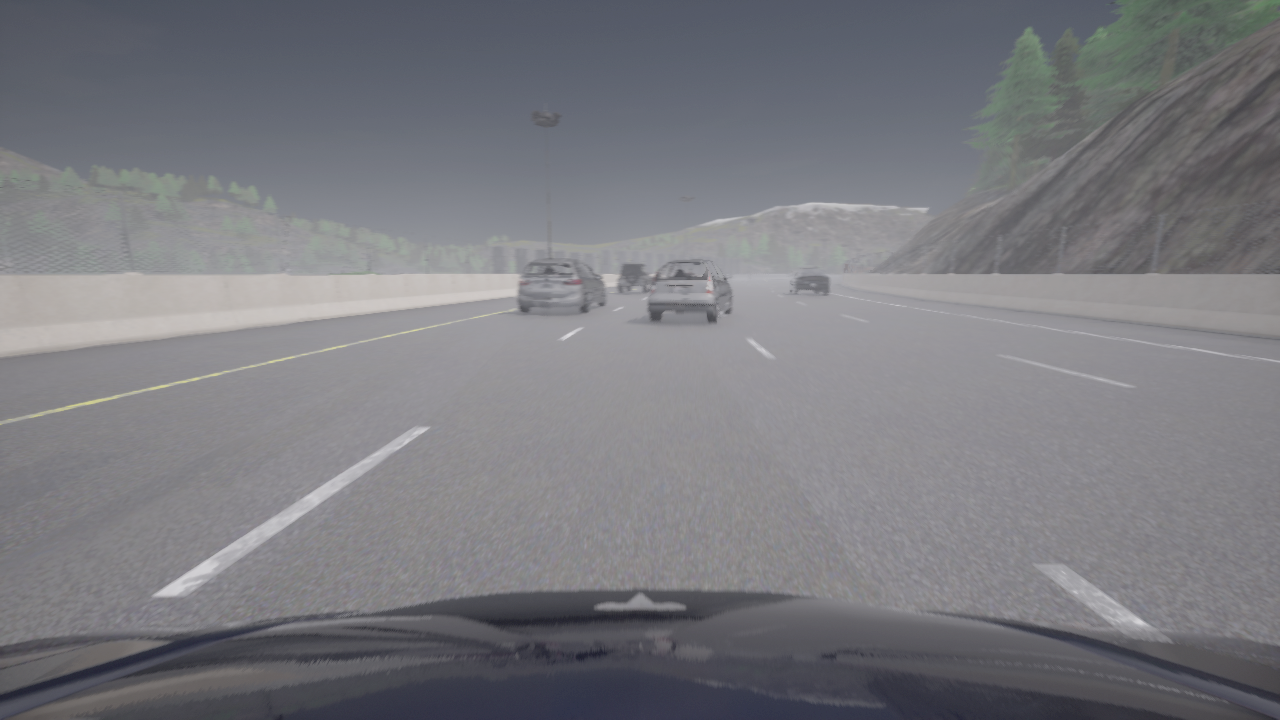cyclist: (0, 588, 1279, 719), (647, 258, 732, 323), (517, 259, 606, 313), (617, 263, 653, 293), (789, 267, 828, 294)
